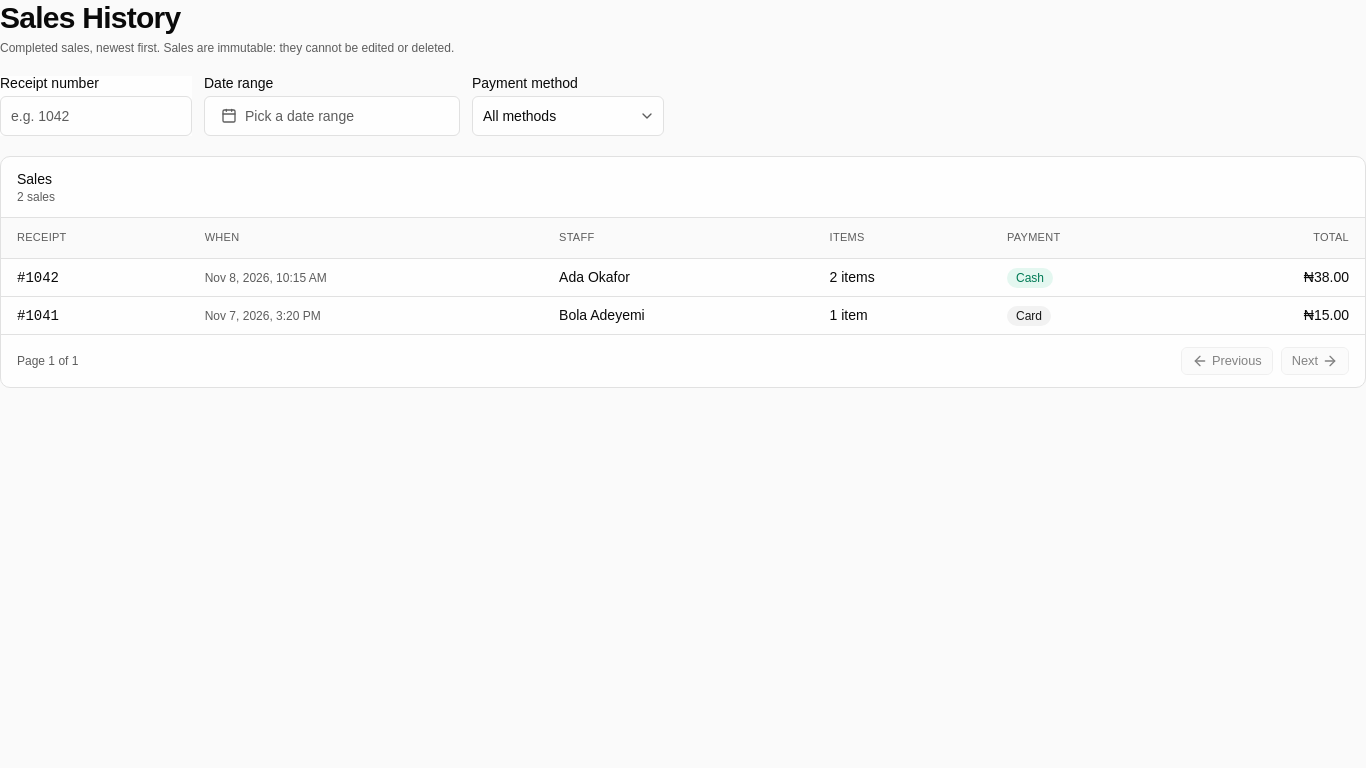
Test case: SalesHistoryPage › applies a date range preset
Expected: the text "2 sales" is shown, left=17, top=189, right=55, bottom=205
Click the button labelled "Pick a date range". click: (332, 116)
box: left=204, top=96, right=460, bottom=136
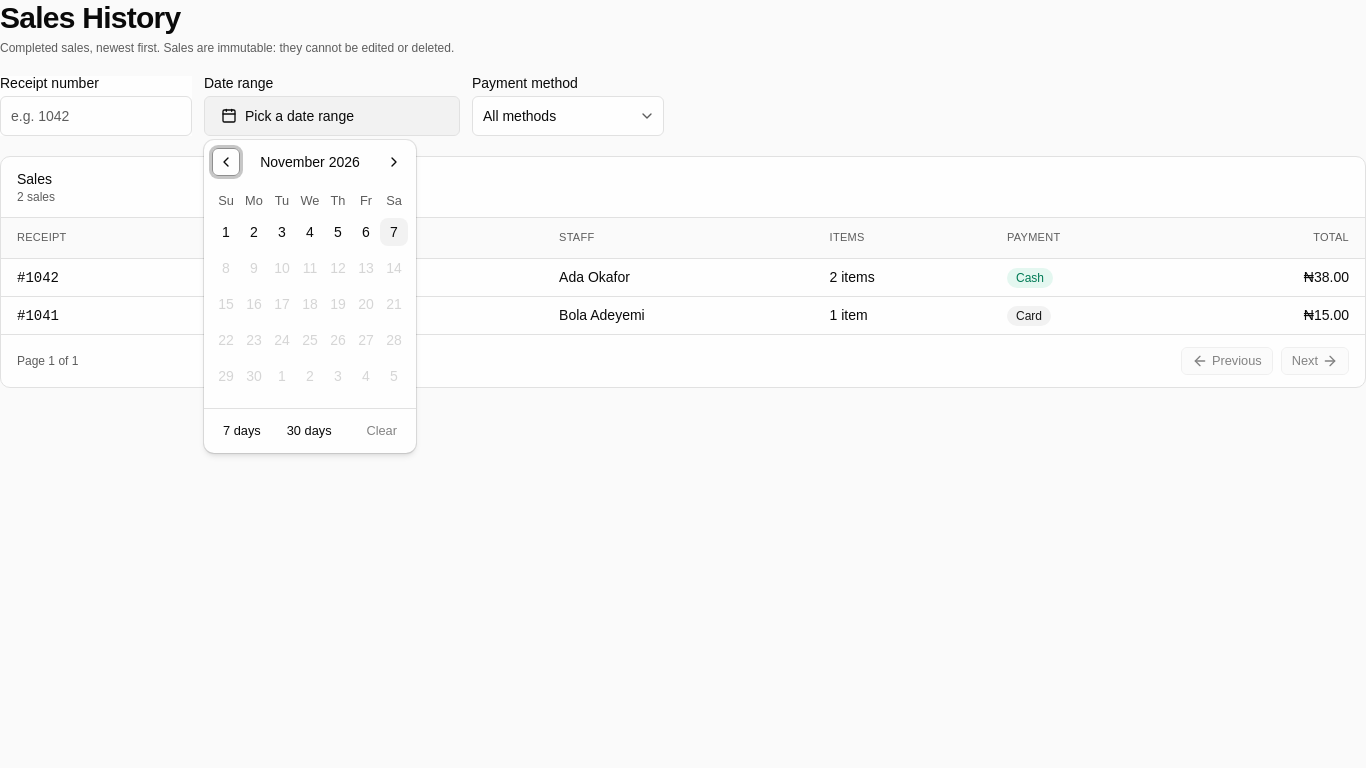
Click the button "7 days". click: (242, 431)
box: left=212, top=417, right=272, bottom=445
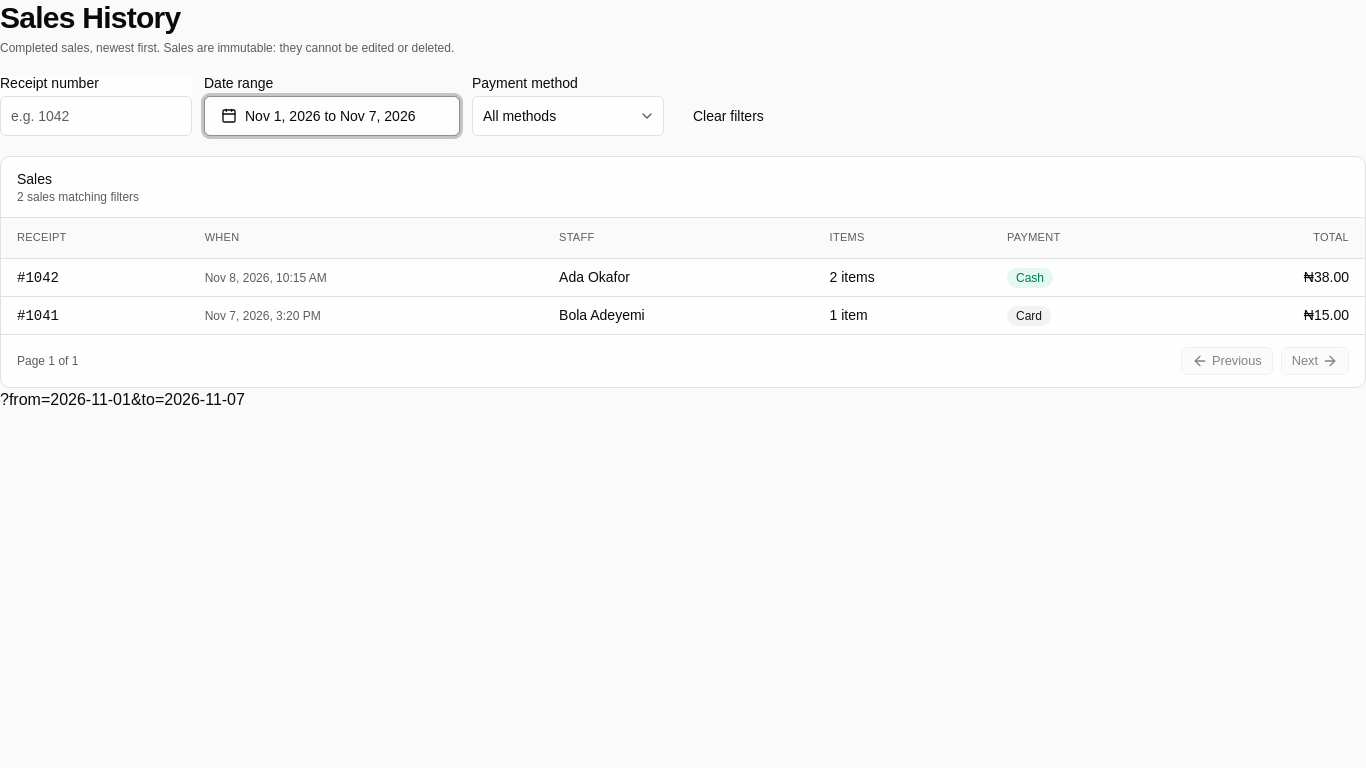
Result: the text with test id "location-search" shows "from=2026-11-01" at left=0, top=390, right=245, bottom=408
Result: the text with test id "location-search" shows "to=2026-11-07" at left=0, top=390, right=245, bottom=408
